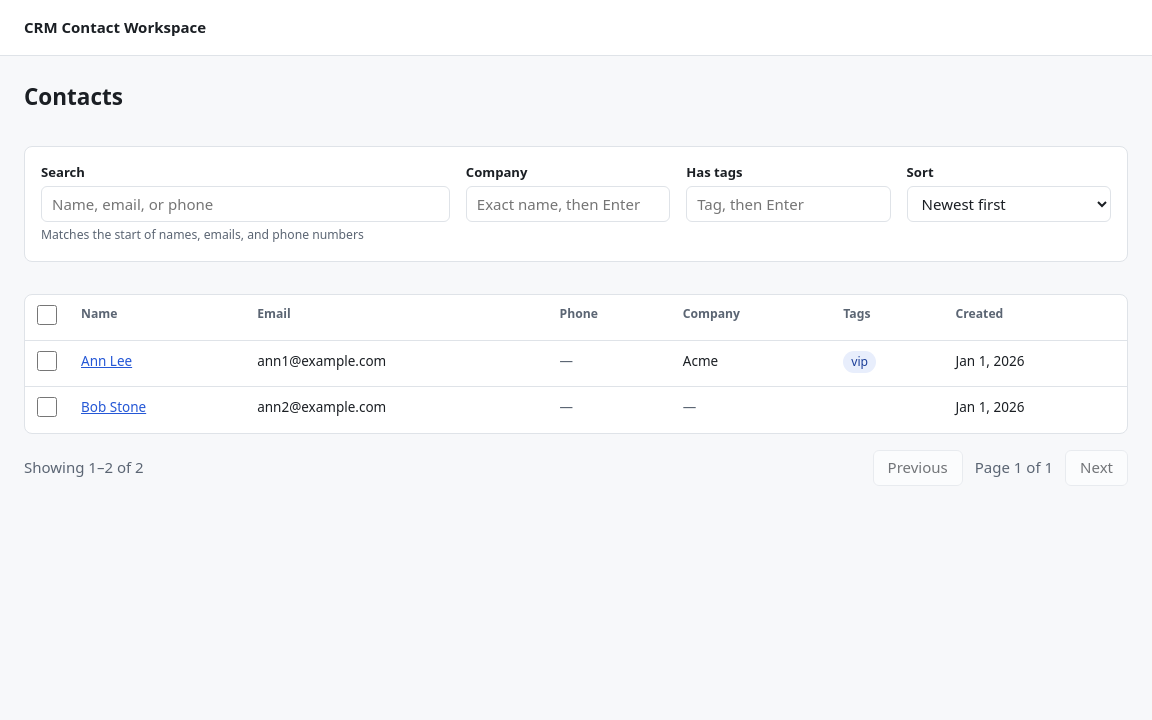
ContactsPage — selection and bulk tagging › assigns a tag to the selected contacts, reports the result, and refreshes
The image size is (1152, 720).
Click the checkbox named "Select Ann Lee".
click(47, 361)  # box x1=37 y1=351 x2=57 y2=371
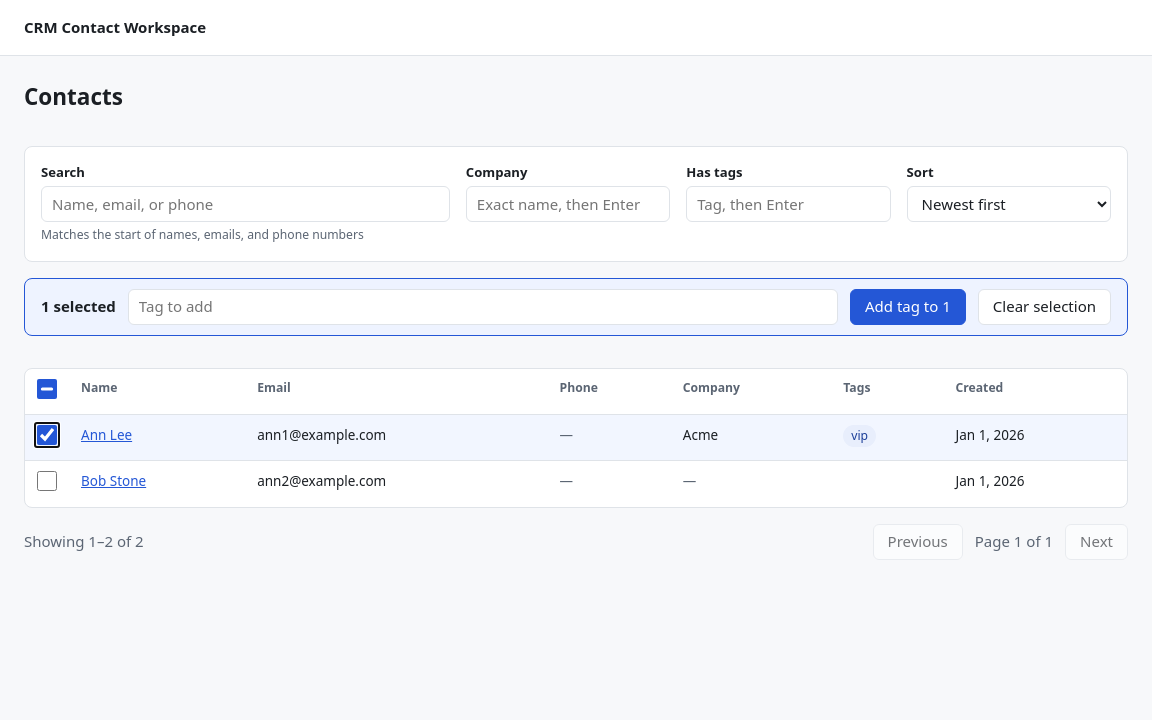
Click the checkbox named "Select Bob Stone".
click(47, 481)  # box x1=37 y1=471 x2=57 y2=491
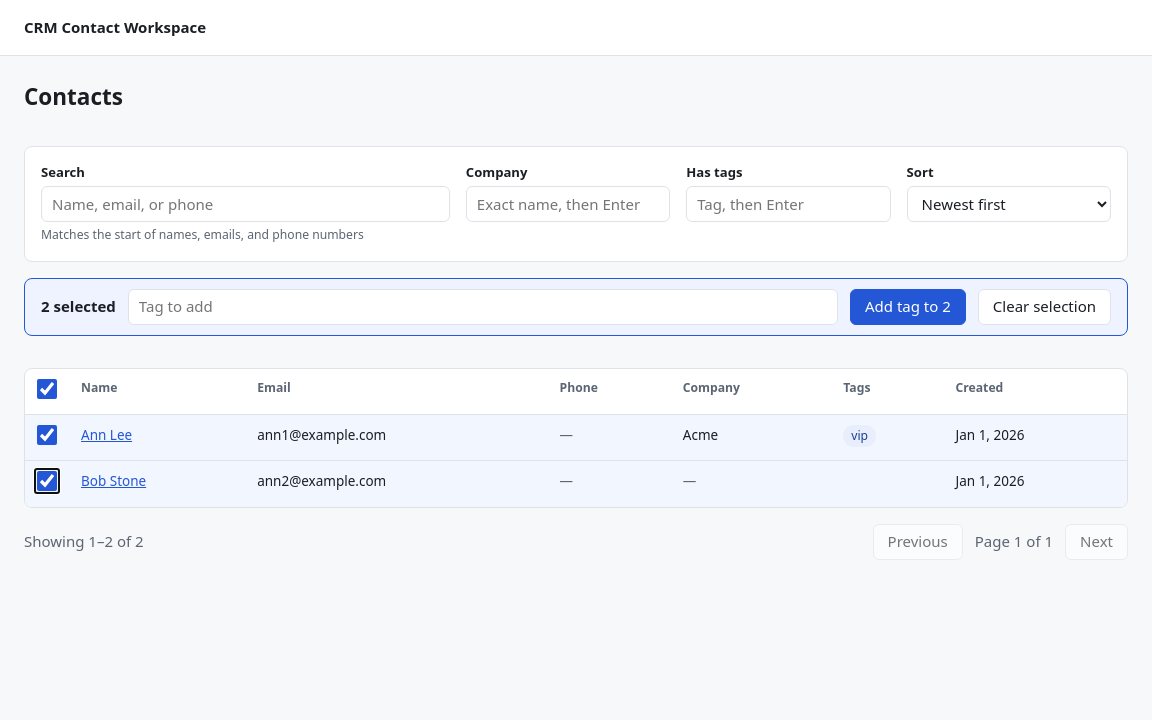
Now the text "2 selected" is shown, box x1=41 y1=296 x2=116 y2=318
Type " Partner" into the field named "Tag to add to the selected contacts".
click(483, 307); type(" Partner")  # box x1=128 y1=289 x2=838 y2=325
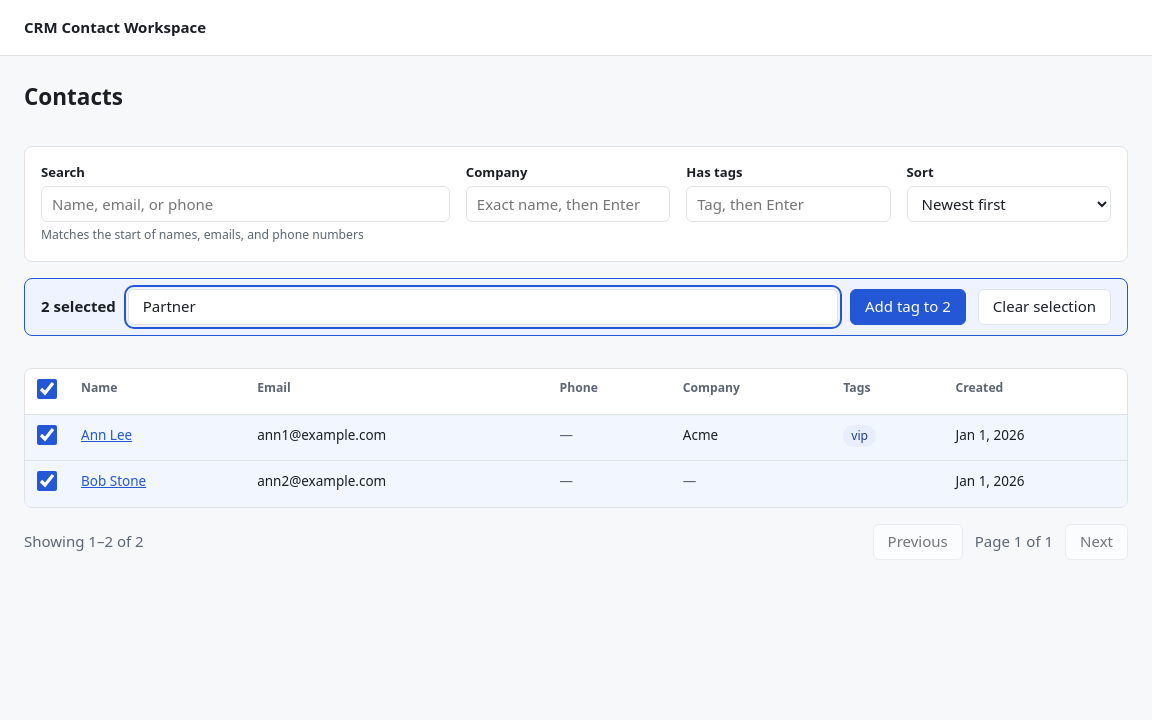
Click the button "Add tag to 2".
click(908, 307)  # box x1=850 y1=289 x2=966 y2=325
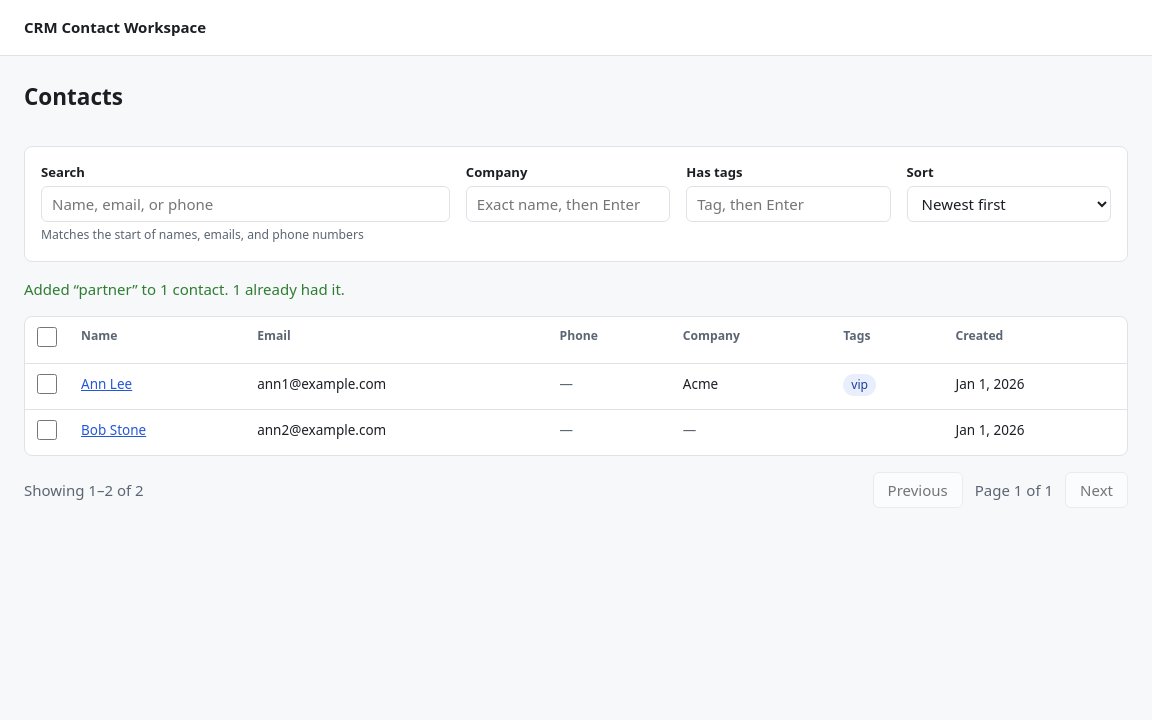
Now the text "Added “partner” to 1 contact. 1 already had it." is shown, box x1=24 y1=279 x2=345 y2=299
Now the text "2 selected" is gone
